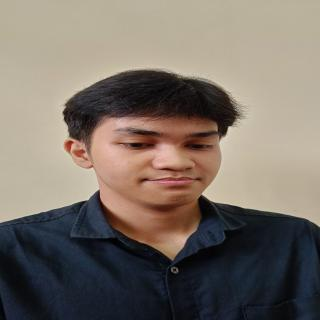Sedih: (85, 109, 230, 212)
